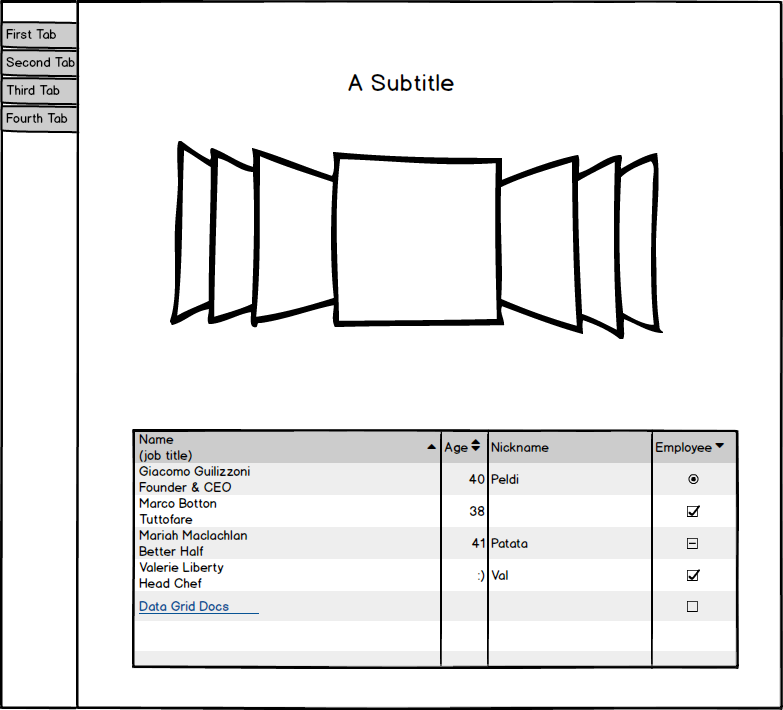h1: (334, 64, 467, 102)
sidebar: (1, 17, 85, 137)
slideshow: (166, 134, 668, 345)
table: (125, 423, 747, 674)
